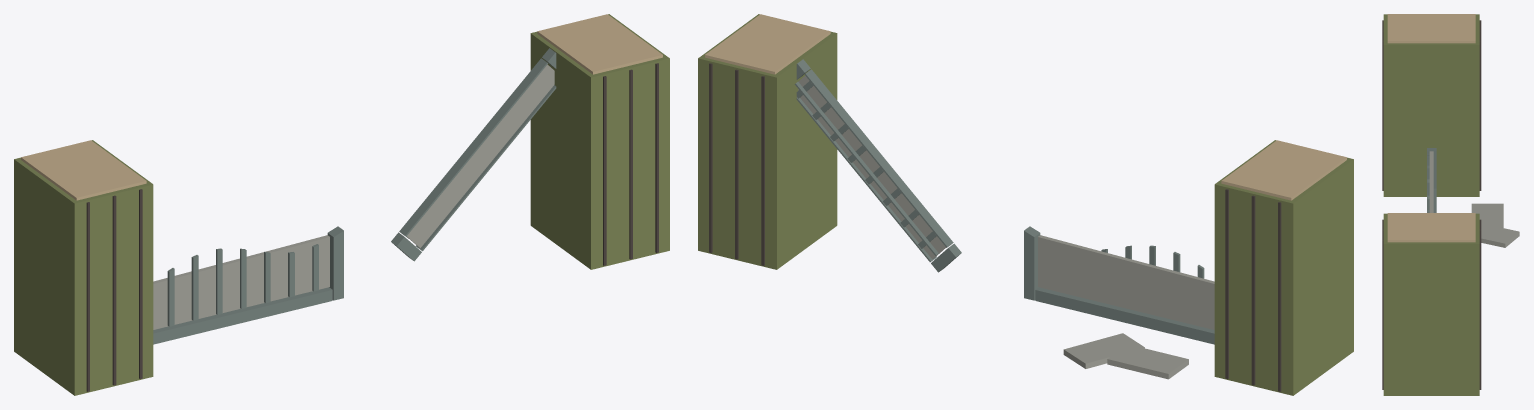
The model's file is SM_PuertaVia_v1_ChapaOndulada_e2_MuyDanado_LOD0.fbx.
3 views of the same model, side by side, from view 1: azimuth 30°, elevation 25°; view 2: azimuth 150°, elevation 25°; view 3: azimuth 270°, elevation 25° (orthographic). The views are drawn at different scales.
Parts seen in each view (by area): view 1: SM_bloques.puerta_via_v6_LOD0, Hoja_O, Hoja_E; view 2: SM_bloques.puerta_via_v6_LOD0, Hoja_O, Hoja_E; view 3: SM_bloques.puerta_via_v6_LOD0, Hoja_O.
Boxes of the visible parts, bbox=[...] form: SM_bloques.puerta_via_v6_LOD0: bbox=[14, 14, 669, 395]; Hoja_O: bbox=[153, 226, 343, 344]; Hoja_E: bbox=[391, 48, 556, 261]; SM_bloques.puerta_via_v6_LOD0: bbox=[698, 14, 1353, 395]; Hoja_O: bbox=[1024, 226, 1214, 344]; Hoja_E: bbox=[794, 59, 961, 272]; SM_bloques.puerta_via_v6_LOD0: bbox=[1382, 14, 1519, 395]; Hoja_O: bbox=[1427, 148, 1436, 212].
Size of the model in its own units: 6.8 by 2.13 by 1.72.
